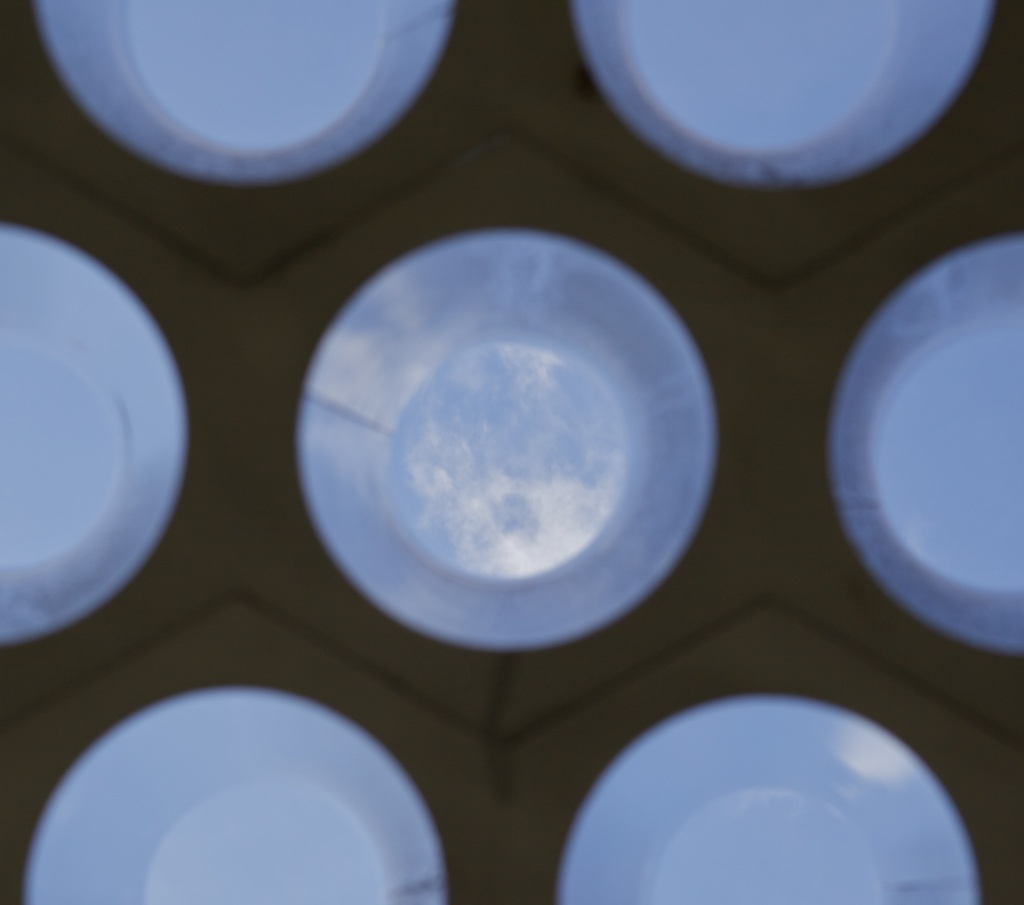plate: (277, 227, 723, 672)
